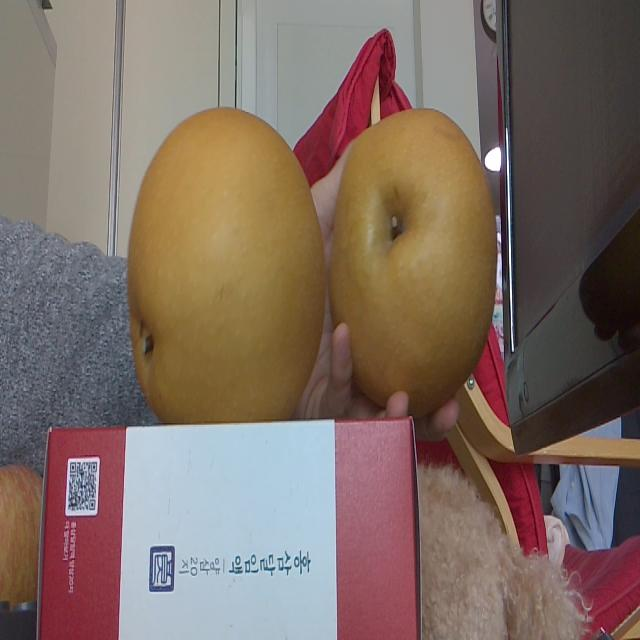pear: (125, 105, 328, 424), (330, 102, 499, 412)
